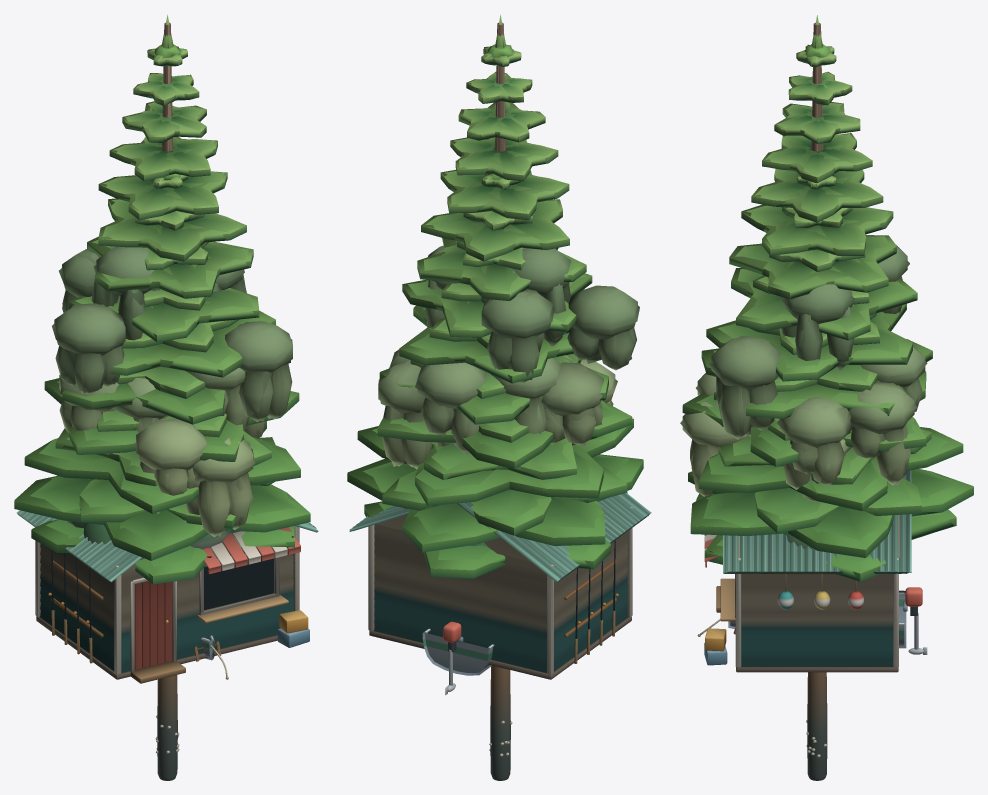
File: tideline_cosy.glb
3 renders of one model, left to right at view 1: azimuth 30°, elevation 25°; view 2: azimuth 150°, elevation 25°; view 3: azimuth 270°, elevation 25°, orthographic.
Visible parts, largest first — view 1: norfolk_pine_1, bait_hut, norfolk_pine_1_lo, casuarina_1, norfolk_pine_0, casuarina_0, norfolk_pine_0_lo, casuarina_1_lo, casuarina_0_lo, jetty_post; view 2: norfolk_pine_1, bait_hut, norfolk_pine_1_lo, casuarina_1, norfolk_pine_0, casuarina_0, norfolk_pine_0_lo, casuarina_1_lo, casuarina_0_lo, tinnie, jetty_post; view 3: norfolk_pine_1, bait_hut, norfolk_pine_1_lo, casuarina_0, norfolk_pine_0, casuarina_0_lo, norfolk_pine_0_lo, jetty_post, tinnie, casuarina_1.
Part boxes in pixels (x1=…): norfolk_pine_1: x1=14, y1=14, x2=310, y2=560; bait_hut: x1=16, y1=510, x2=318, y2=683; norfolk_pine_1_lo: x1=14, y1=18, x2=310, y2=552; casuarina_1: x1=54, y1=246, x2=247, y2=495; norfolk_pine_0: x1=31, y1=174, x2=294, y2=584; casuarina_0: x1=114, y1=270, x2=292, y2=536; norfolk_pine_0_lo: x1=31, y1=173, x2=294, y2=582; casuarina_1_lo: x1=52, y1=246, x2=249, y2=513; casuarina_0_lo: x1=118, y1=269, x2=292, y2=536; jetty_post: x1=155, y1=675, x2=179, y2=780; norfolk_pine_1: x1=347, y1=14, x2=643, y2=552; bait_hut: x1=349, y1=493, x2=651, y2=679; norfolk_pine_1_lo: x1=347, y1=16, x2=643, y2=544; casuarina_1: x1=436, y1=248, x2=637, y2=446; norfolk_pine_0: x1=364, y1=173, x2=627, y2=578; casuarina_0: x1=378, y1=245, x2=575, y2=469; norfolk_pine_0_lo: x1=364, y1=174, x2=627, y2=575; casuarina_1_lo: x1=437, y1=248, x2=639, y2=446; casuarina_0_lo: x1=378, y1=254, x2=556, y2=467; tinnie: x1=422, y1=619, x2=494, y2=695; jetty_post: x1=489, y1=665, x2=512, y2=780; norfolk_pine_1: x1=682, y1=15, x2=973, y2=557; bait_hut: x1=704, y1=470, x2=911, y2=672; norfolk_pine_1_lo: x1=683, y1=16, x2=973, y2=549; casuarina_0: x1=682, y1=284, x2=925, y2=496; norfolk_pine_0: x1=688, y1=174, x2=956, y2=581; casuarina_0_lo: x1=680, y1=290, x2=927, y2=494; norfolk_pine_0_lo: x1=688, y1=175, x2=956, y2=580; jetty_post: x1=806, y1=672, x2=827, y2=780; tinnie: x1=697, y1=587, x2=927, y2=654; casuarina_1: x1=697, y1=245, x2=907, y2=501.
Bounding box in the file's own units: 6.16 × 17.41 × 6.08.
